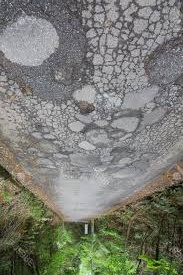pothole: (49, 62, 79, 85), (73, 101, 100, 118), (42, 131, 55, 145)
